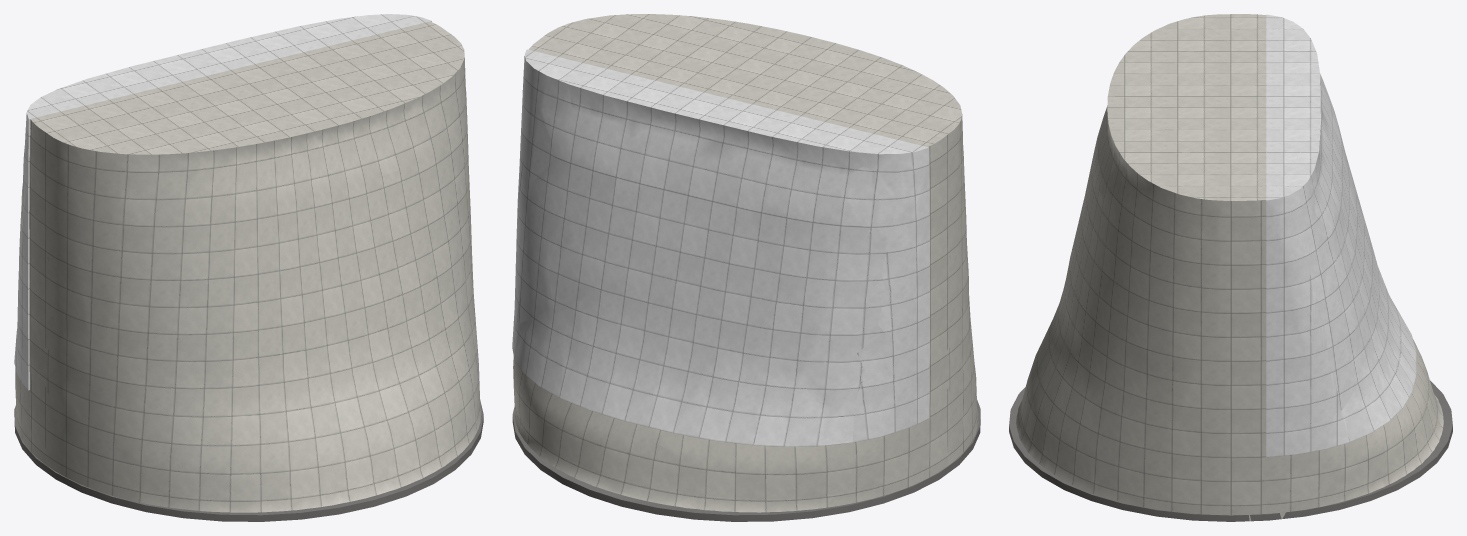
File: aero01_mk2_adapter_mk2_m.glb
3 renders of one model, left to right at view 1: azimuth 30°, elevation 25°; view 2: azimuth 150°, elevation 25°; view 3: azimuth 270°, elevation 25°, orthographic. The views are drawn at different scales.
Visible parts, largest first — view 1: adapter, belly_tiles, round_ring; view 2: belly_tiles, adapter, round_ring; view 3: adapter, belly_tiles, round_ring.
Boxes of the visible parts, x1,y1,x2,y2 form: adapter: (15,21,481,512); belly_tiles: (14,14,431,390); round_ring: (14,399,483,521); belly_tiles: (512,49,929,446); adapter: (513,14,978,512); round_ring: (512,400,980,521); adapter: (1016,14,1443,521); belly_tiles: (1266,14,1416,457); round_ring: (1009,380,1452,521).
Size of the model in its own units: 2.51 by 2 by 2.51.
Materials: 3 (3 with a texture image).
